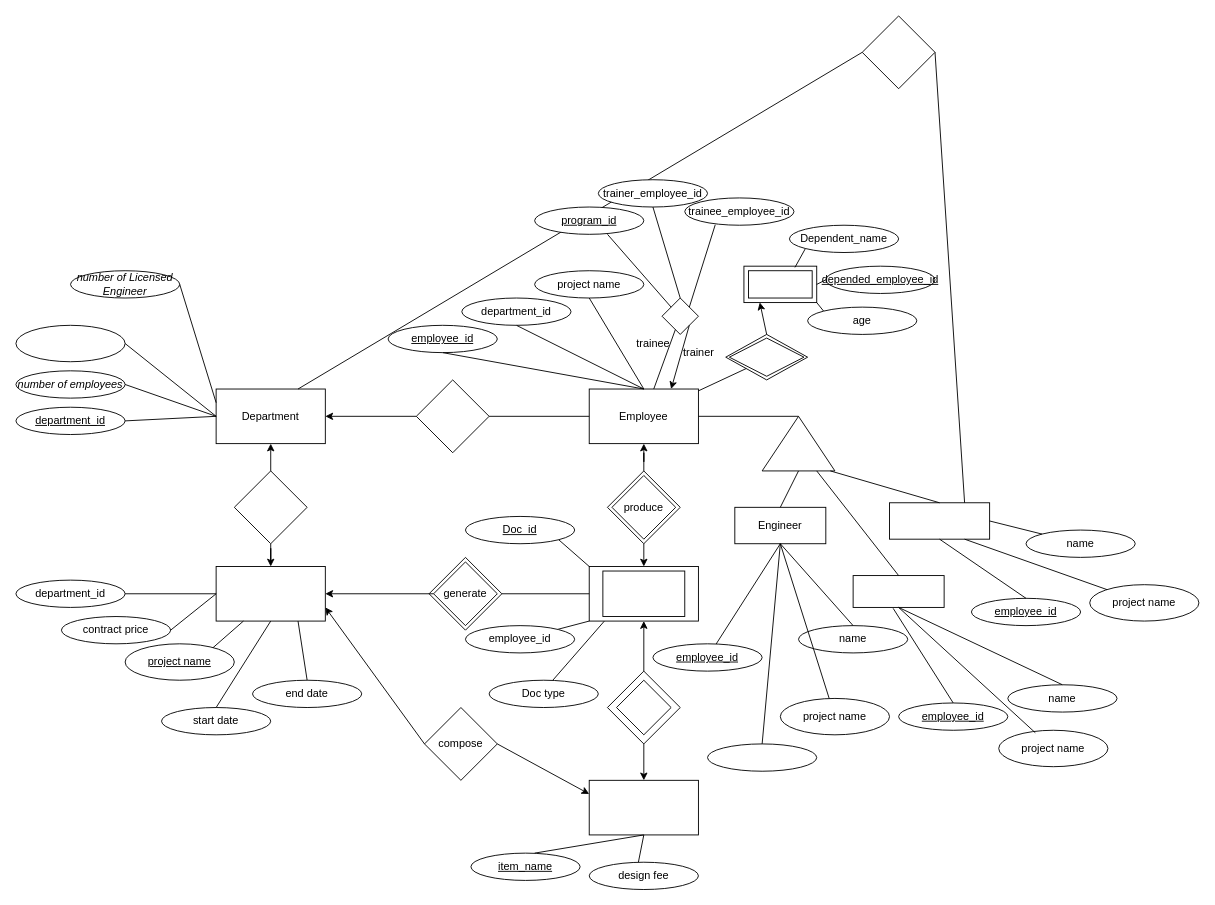
The diagram is 1215 pixels wide and 905 high, and some of its shapes have lost their labels. The centre of each missing label's shape, as x and y in pixels:
consist: (x=643, y=707)
department_name: (x=70, y=343)
Dependent: (x=780, y=284)
Dependents of: (x=766, y=357)
Design item: (x=643, y=807)
Designer: (x=898, y=591)
employ: (x=452, y=416)
isa: (x=798, y=443)
Licensed: (x=762, y=757)
manage: (x=898, y=52)
Manager: (x=939, y=520)
participate: (x=270, y=507)
Project: (x=270, y=593)
Project Doc: (x=643, y=593)
train: (x=679, y=315)
